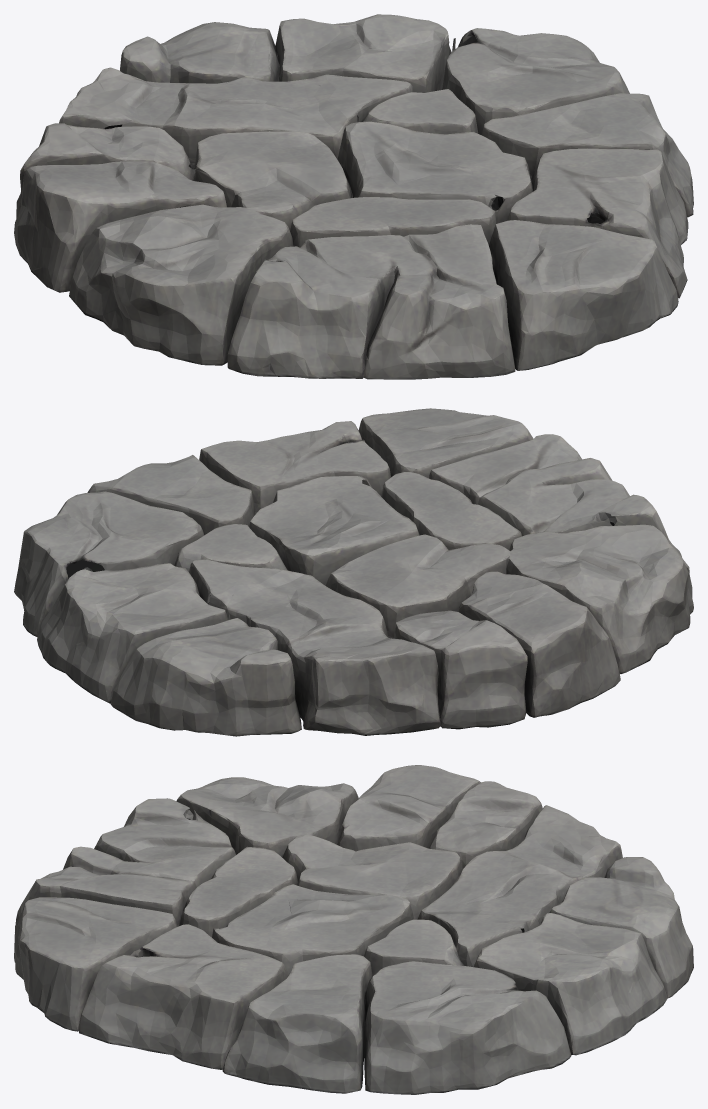
3 renders of one model, top to bottom at view 1: azimuth 30°, elevation 25°; view 2: azimuth 150°, elevation 25°; view 3: azimuth 270°, elevation 25°, orthographic. The views are drawn at different scales.
Parts seen in each view (by area): view 1: world; view 2: world; view 3: world.
Boxes of the visible parts, x1,y1,x2,y2 form: world: (14,14,693,379); world: (14,408,693,736); world: (14,765,693,1094).
Size of the model in its own units: 0.9239 by 0.1318 by 0.9986.
1 material, 1 textured.
